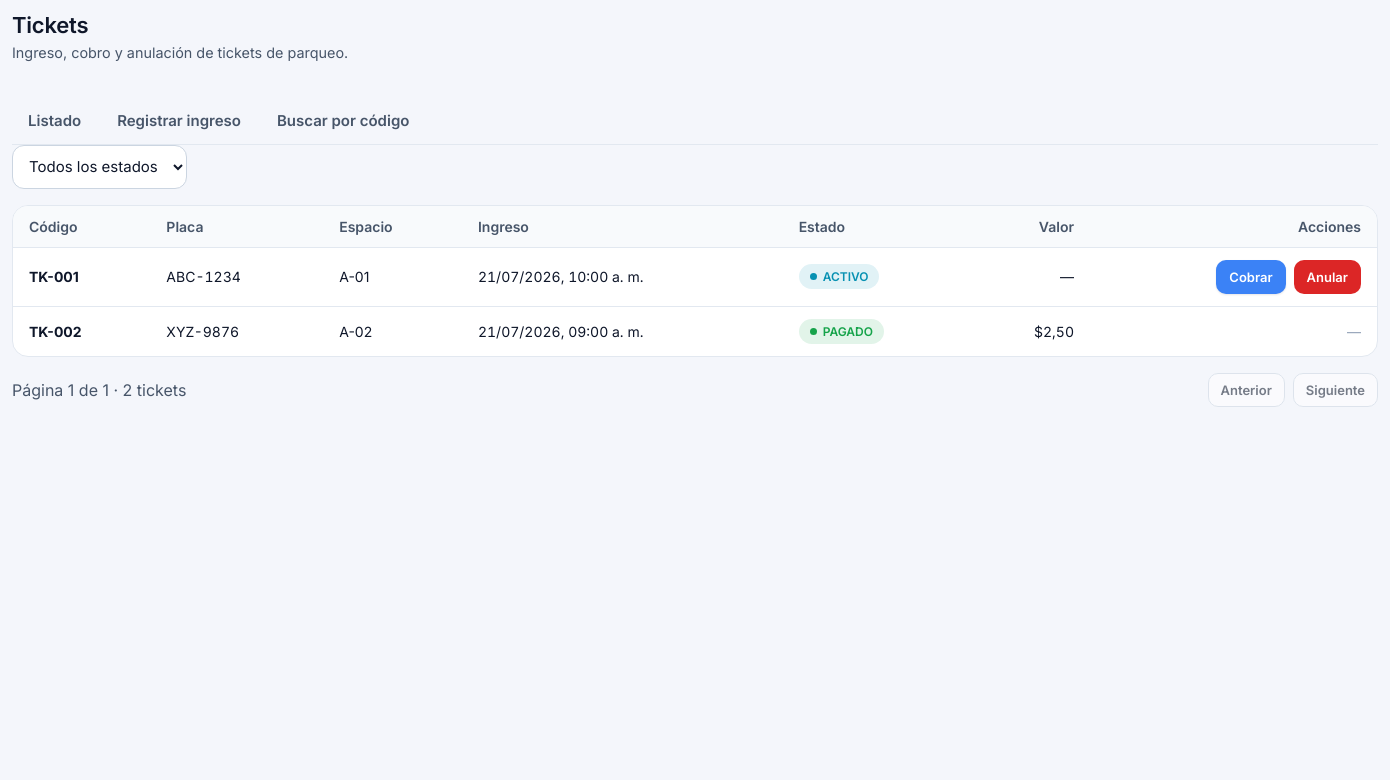
it: TicketsPage › cobro falla muestra toast
Expected: the text "TK-001" is shown, [29, 268, 79, 285]
Click the button "Cobrar" at (1251, 277), box [1216, 260, 1286, 294]
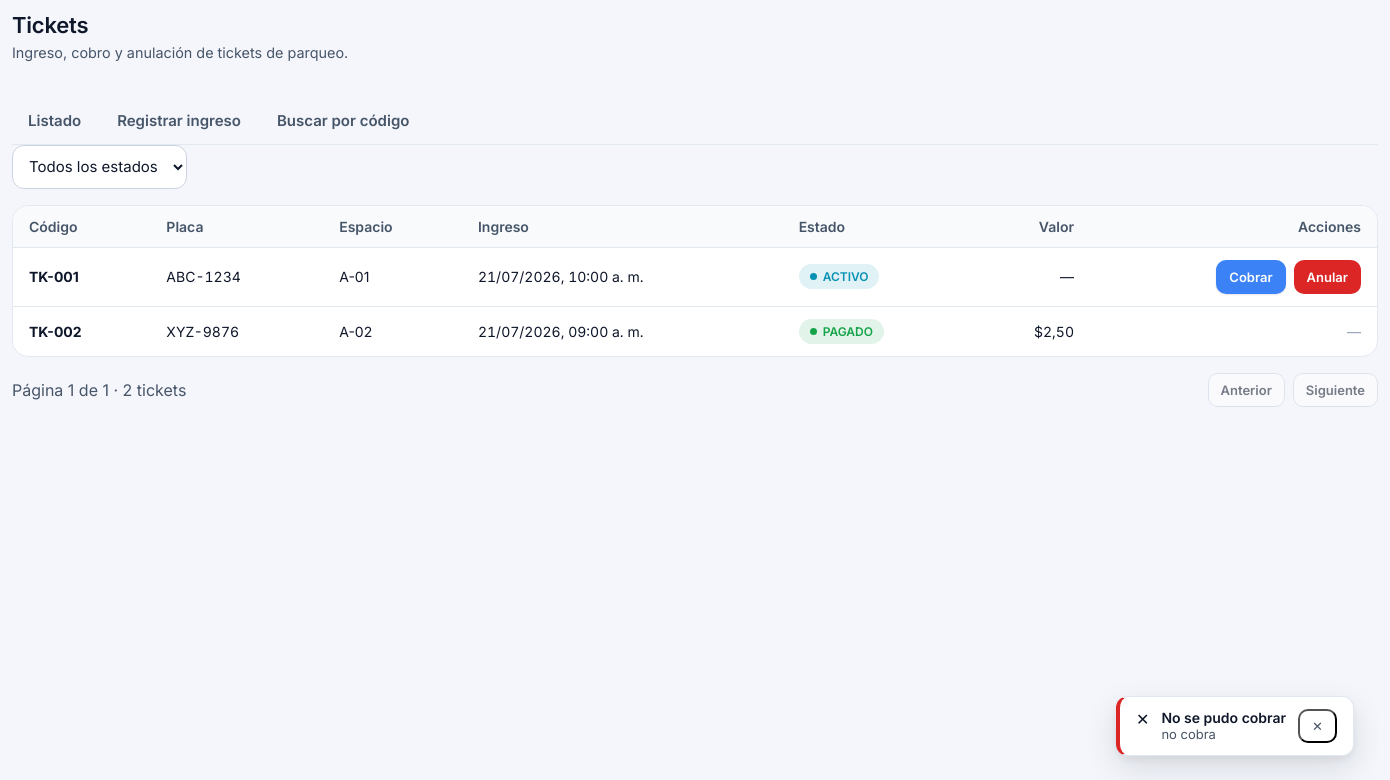
Expected: the text "no cobra" is shown, [1161, 726, 1216, 742]
